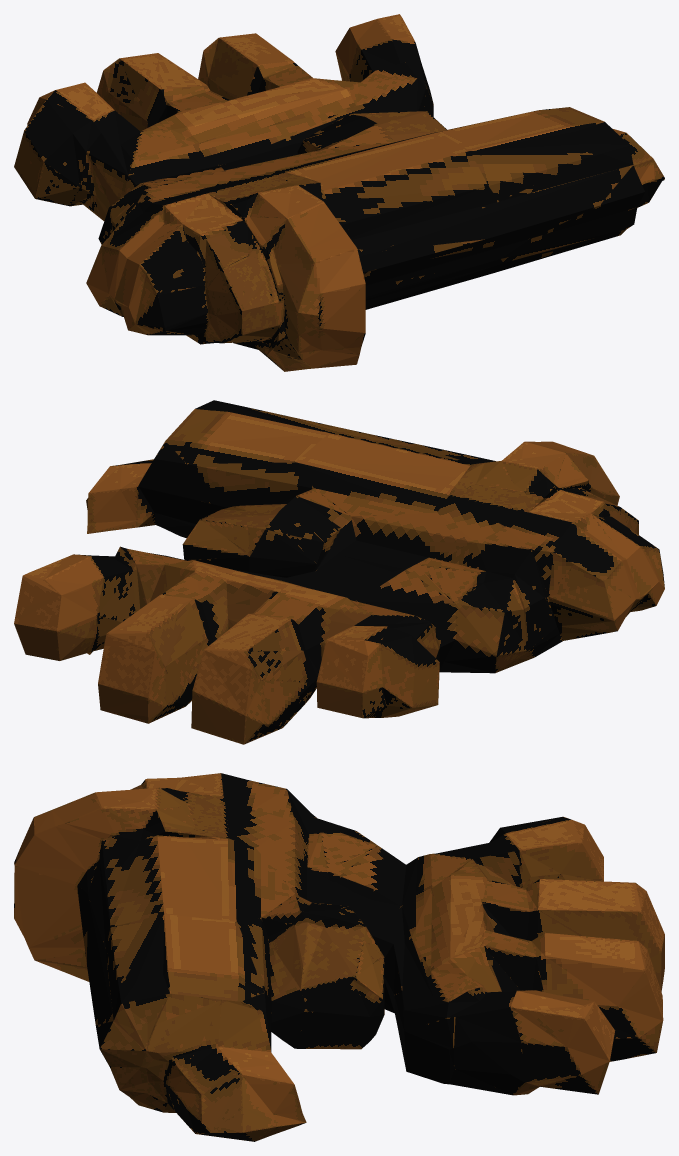
3 renders of one model, top to bottom at view 1: azimuth 30°, elevation 25°; view 2: azimuth 150°, elevation 25°; view 3: azimuth 270°, elevation 25°, orthographic. The views are drawn at different scales.
Visible parts, largest first — view 1: OBJ026; view 2: OBJ026; view 3: OBJ026.
Part boxes in pixels (bbox=[...]): OBJ026: bbox=[14, 14, 664, 371]; OBJ026: bbox=[14, 400, 664, 744]; OBJ026: bbox=[14, 773, 664, 1141].
Size of the model in its own units: 0.466 by 0.1322 by 0.4356.
1 material, 1 textured.
